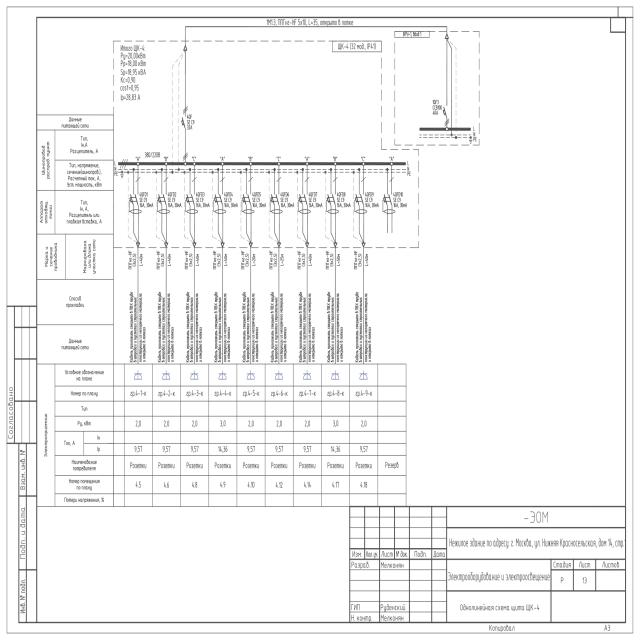-: (337, 42, 377, 51), (393, 196, 408, 208), (252, 197, 267, 209), (224, 197, 238, 209), (195, 197, 210, 208), (167, 197, 182, 208), (336, 197, 351, 208), (280, 197, 294, 208), (309, 197, 323, 208), (365, 197, 379, 208), (139, 197, 153, 208), (187, 119, 196, 130)
QF: (181, 105, 188, 131)
QFD: (382, 176, 396, 215), (129, 177, 142, 216), (241, 175, 254, 214), (213, 175, 226, 214), (354, 175, 367, 214), (157, 176, 170, 215), (326, 176, 339, 214), (185, 176, 198, 214), (298, 176, 310, 215), (270, 176, 282, 214)
